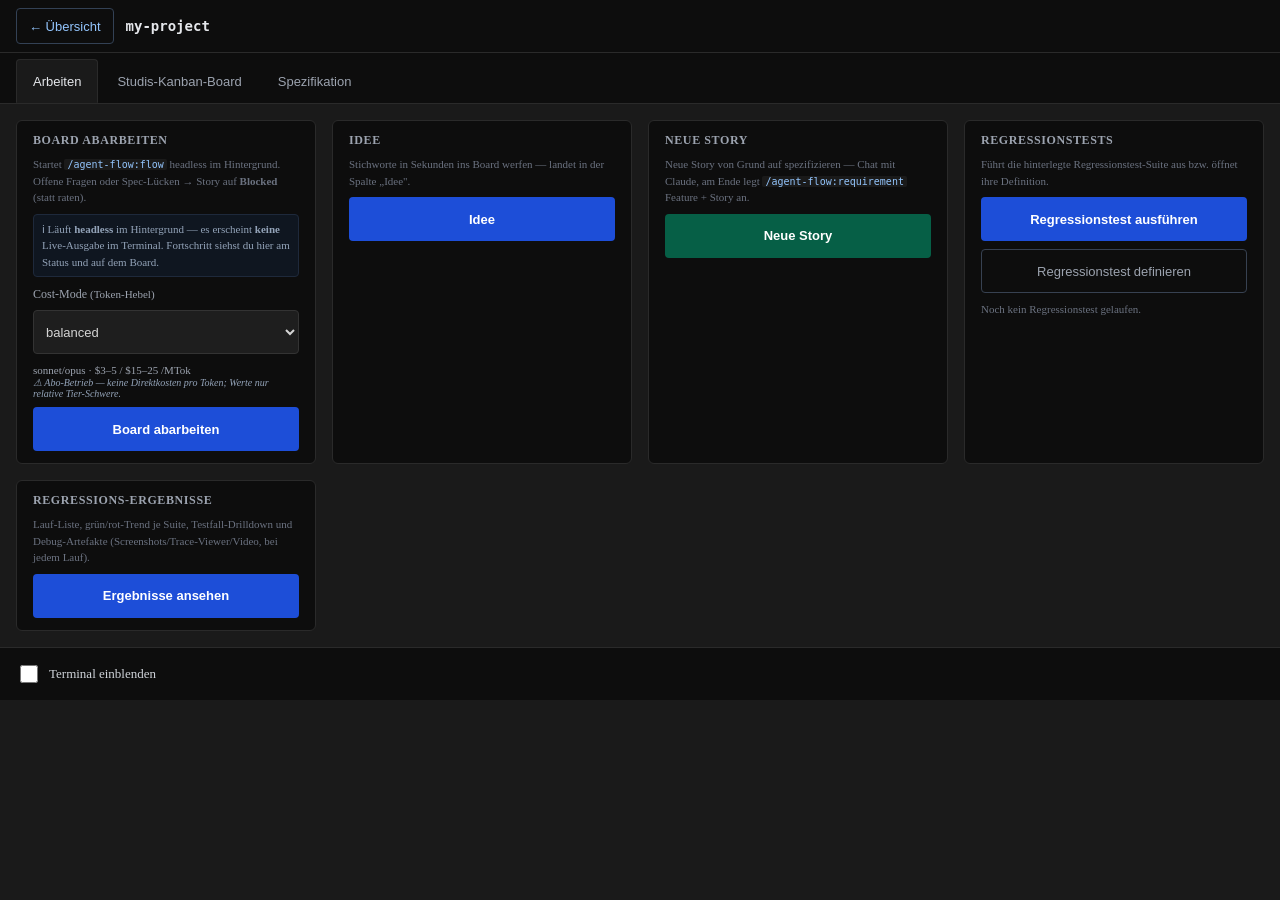
Test: drain-completion-report AC7a — manuelle Inline-Status-Fläche zeigt Abschlussbericht bei done › aufklappbare Liste enthält Story-IDs + Titel (erledigt UND blockiert)
The image size is (1280, 900).
Click the button with test id "flow-board-btn".
click(166, 429)  # box [33,407,299,451]
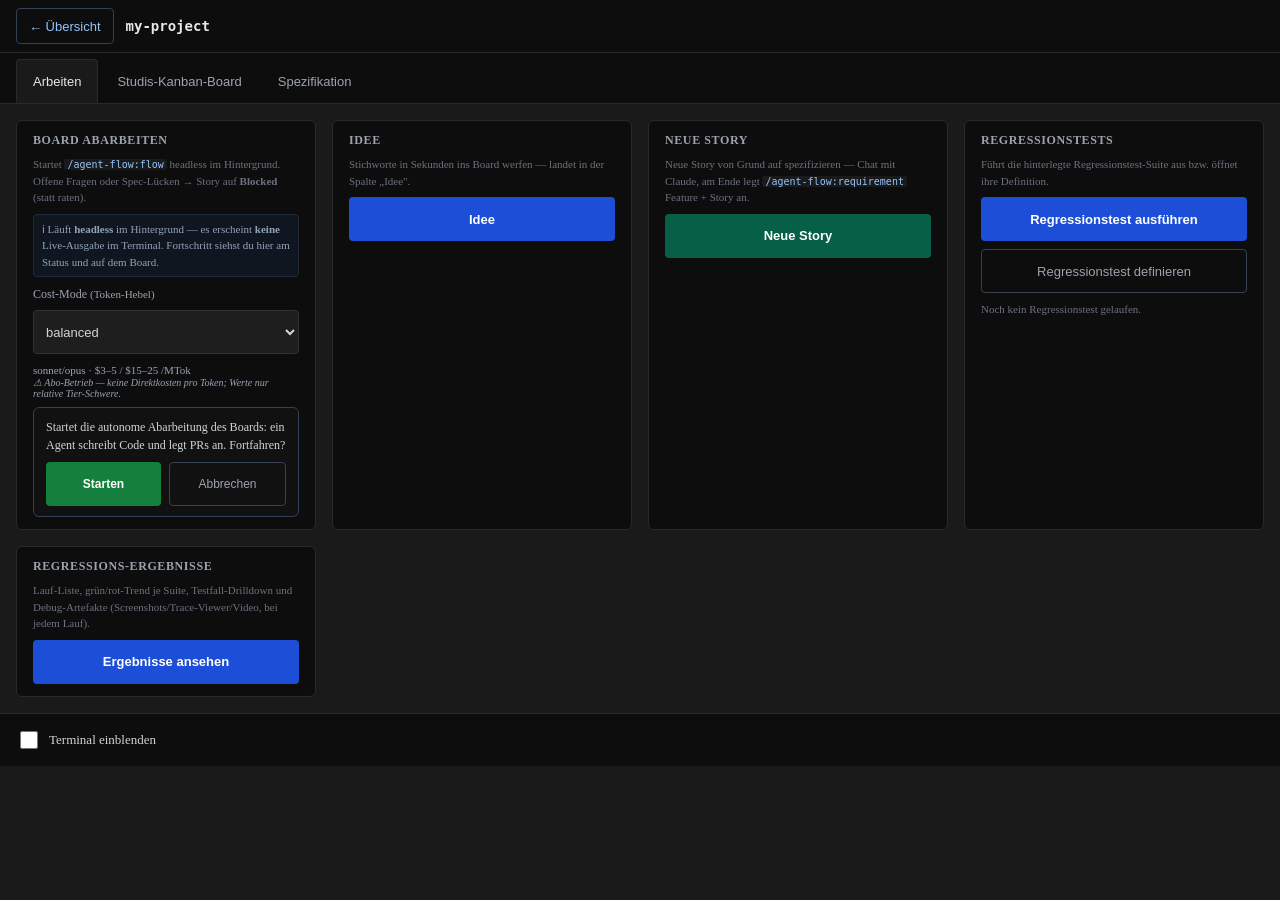
Click the button with test id "flow-confirm-yes".
click(104, 484)  # box [46,462,161,506]
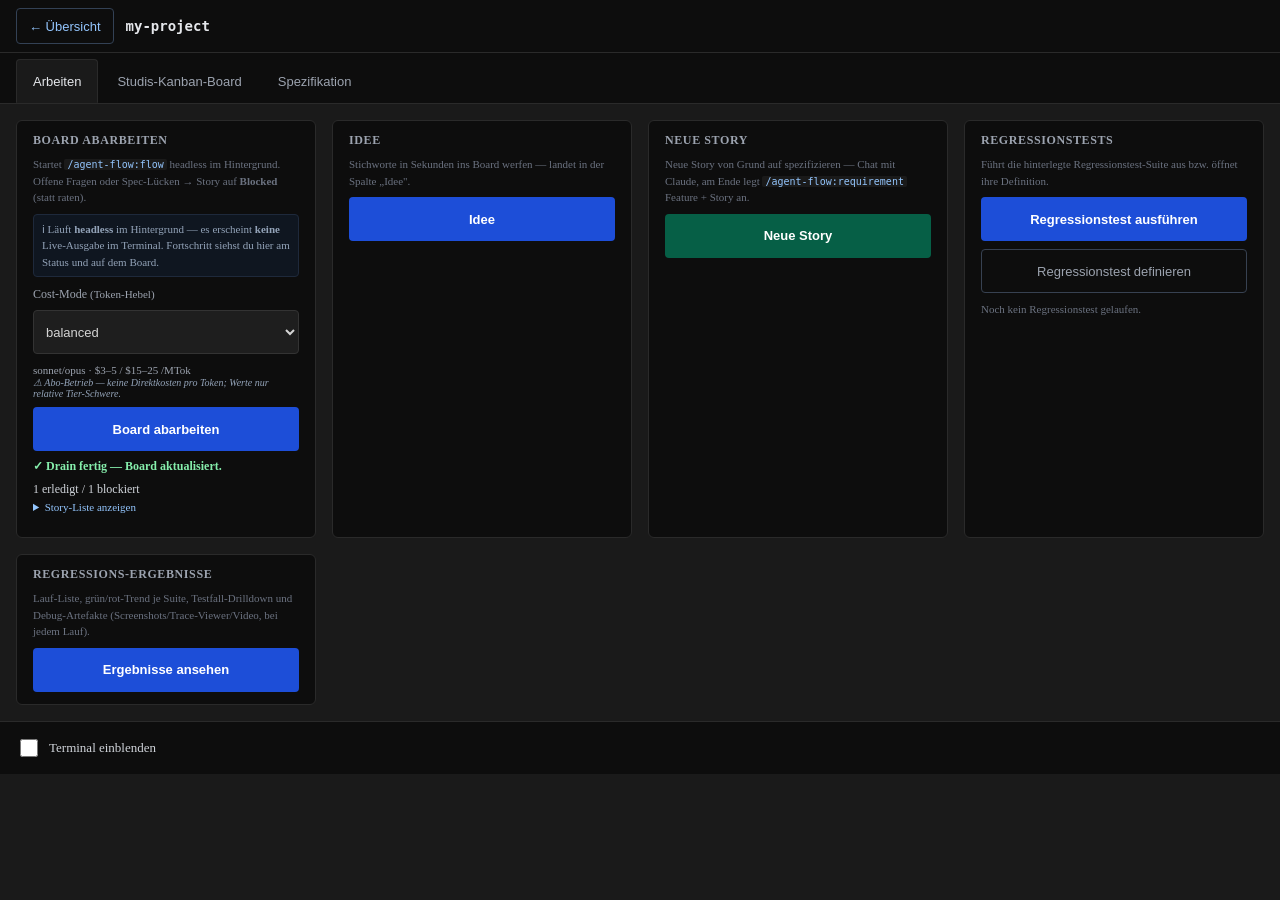
Check: the element with test id "drain-report-details" is shown, box [45,501,136,513]
